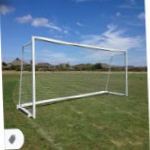goals: (16, 35, 130, 120)
